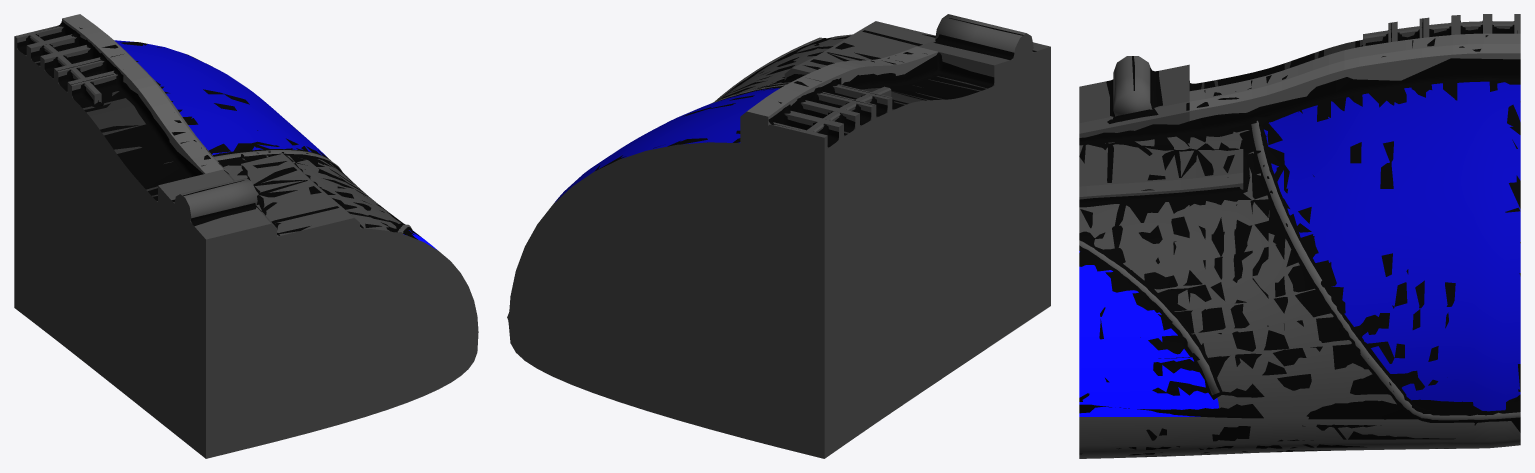
File: newsh9-56.glb
3 views of the same model, side by side, from view 1: azimuth 30°, elevation 25°; view 2: azimuth 150°, elevation 25°; view 3: azimuth 270°, elevation 25° (orthographic). The views are drawn at different scales.
Parts seen in each view (by area): view 1: newsh9-56, newsh9-56_outline; view 2: newsh9-56, newsh9-56_outline; view 3: newsh9-56, newsh9-56_outline.
Boxes of the visible parts, <box> form: newsh9-56: <box>14,14,478,458</box>; newsh9-56_outline: <box>17,21,420,239</box>; newsh9-56: <box>507,14,1050,458</box>; newsh9-56_outline: <box>508,18,1036,321</box>; newsh9-56: <box>1079,14,1520,458</box>; newsh9-56_outline: <box>1079,18,1520,457</box>.
Size of the model in its own units: 1.93 by 1.94 by 2.33.
